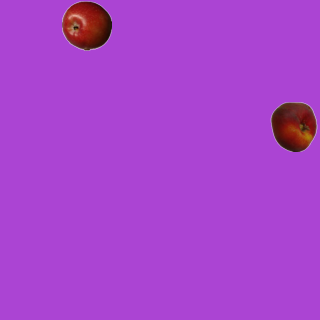Apple Braeburn: (61, 0, 111, 50)
Nectarine Flat: (268, 101, 318, 151)
